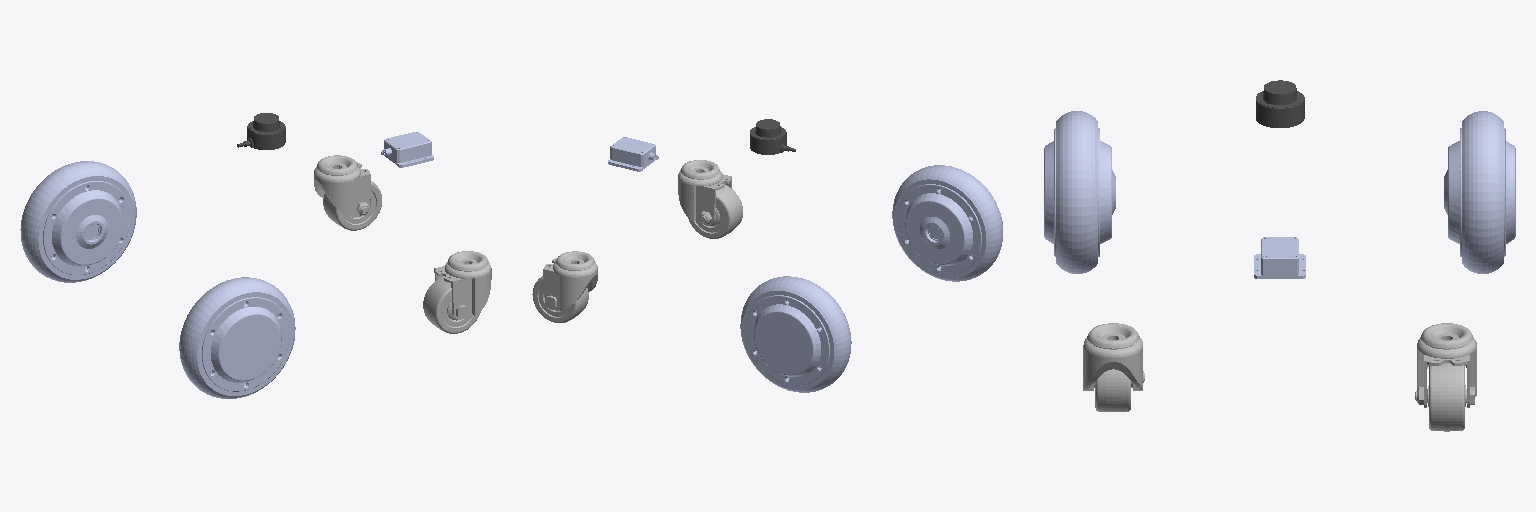
The robot description file, URDF, robot "buaahz_car_urdf_n10p":
<?xml version="1.0" encoding="utf-8"?>
<!-- This URDF was automatically created by SolidWorks to URDF Exporter! Originally created by Stephen Brawner (brawner@gmail.com) 
     Commit Version: 1.6.0-4-g7f85cfe  Build Version: 1.6.7995.38578
     For more information, please see http://wiki.ros.org/sw_urdf_exporter -->
<robot
  name="buaahz_car_urdf_n10p">
  <link
    name="base_link">
    <inertial>
      <origin
        xyz="0.171173844240303 -0.000490884329192642 0.0920658042519725"
        rpy="0 0 0" />
      <mass
        value="10.4189376177481" />
      <inertia
        ixx="0.0898317614916125"
        ixy="0.000125839593223842"
        ixz="-0.000445497013028808"
        iyy="0.0928240292624767"
        iyz="-1.91920534164565E-05"
        izz="0.171968936526809" />
    </inertial>
    <visual>
      <origin
        xyz="0 0 0"
        rpy="0 0 0" />
      <geometry>
        <mesh
          filename="package://buaahz_car_urdf_n10p/meshes/base_link.STL" />
      </geometry>
      <material
        name="">
        <color
          rgba="0.776470588235294 0.756862745098039 0.737254901960784 1" />
      </material>
    </visual>
    <collision>
      <origin
        xyz="0 0 0"
        rpy="0 0 0" />
      <geometry>
        <mesh
          filename="package://buaahz_car_urdf_n10p/meshes/base_link.STL" />
      </geometry>
    </collision>
  </link>
  <link
    name="left_wheel_Link">
    <inertial>
      <origin
        xyz="5.65098763338767E-08 -0.000107541598391658 3.10675519172611E-07"
        rpy="0 0 0" />
      <mass
        value="0.913957958882337" />
      <inertia
        ixx="0.00156554399137761"
        ixy="-7.84052736775856E-10"
        ixz="2.6839364578061E-09"
        iyy="0.00295301334108984"
        iyz="-2.21425364152471E-09"
        izz="0.00156556205111389" />
    </inertial>
    <visual>
      <origin
        xyz="0 0 0"
        rpy="0 0 0" />
      <geometry>
        <mesh
          filename="package://buaahz_car_urdf_n10p/meshes/left_wheel_Link.STL" />
      </geometry>
      <material
        name="">
        <color
          rgba="0.792156862745098 0.819607843137255 0.933333333333333 1" />
      </material>
    </visual>
    <collision>
      <origin
        xyz="0 0 0"
        rpy="0 0 0" />
      <geometry>
        <mesh
          filename="package://buaahz_car_urdf_n10p/meshes/left_wheel_Link.STL" />
      </geometry>
    </collision>
  </link>
  <joint
    name="left_wheel_joint"
    type="continuous">
    <origin
      xyz="5E-05 0.2146 -0.002"
      rpy="0 0 0" />
    <parent
      link="base_link" />
    <child
      link="left_wheel_Link" />
    <axis
      xyz="0.00023299 1 0" />
  </joint>
  <link
    name="right_wheel_Link">
    <inertial>
      <origin
        xyz="-5.65098763338767E-08 0.000107541598391658 3.10675519189091E-07"
        rpy="0 0 0" />
      <mass
        value="0.913957958882336" />
      <inertia
        ixx="0.00156554399137761"
        ixy="-7.84052736810507E-10"
        ixz="-2.68393645808829E-09"
        iyy="0.00295301334108984"
        iyz="2.21425364140424E-09"
        izz="0.00156556205111389" />
    </inertial>
    <visual>
      <origin
        xyz="0 0 0"
        rpy="0 0 0" />
      <geometry>
        <mesh
          filename="package://buaahz_car_urdf_n10p/meshes/right_wheel_Link.STL" />
      </geometry>
      <material
        name="">
        <color
          rgba="0.792156862745098 0.819607843137255 0.933333333333333 1" />
      </material>
    </visual>
    <collision>
      <origin
        xyz="0 0 0"
        rpy="0 0 0" />
      <geometry>
        <mesh
          filename="package://buaahz_car_urdf_n10p/meshes/right_wheel_Link.STL" />
      </geometry>
    </collision>
  </link>
  <joint
    name="right_wheel_joint"
    type="continuous">
    <origin
      xyz="-5E-05 -0.2146 -0.002"
      rpy="0 0 0" />
    <parent
      link="base_link" />
    <child
      link="right_wheel_Link" />
    <axis
      xyz="0.00023299 1 0" />
  </joint>
  <link
    name="lf_Link">
    <inertial>
      <origin
        xyz="0.00478439486534085 -0.000194940503855379 -0.0200897415759267"
        rpy="0 0 0" />
      <mass
        value="0.0764331852561443" />
      <inertia
        ixx="6.38707770236009E-05"
        ixy="2.87122519156644E-07"
        ixz="1.04097740579094E-05"
        iyy="5.80010180912249E-05"
        iyz="-5.27406370320013E-07"
        izz="5.40103969527263E-05" />
    </inertial>
    <visual>
      <origin
        xyz="0 0 0"
        rpy="0 0 0" />
      <geometry>
        <mesh
          filename="package://buaahz_car_urdf_n10p/meshes/lf_Link.STL" />
      </geometry>
      <material
        name="">
        <color
          rgba="0.756862745098039 0.768627450980392 0.752941176470588 1" />
      </material>
    </visual>
    <collision>
      <origin
        xyz="0 0 0"
        rpy="0 0 0" />
      <geometry>
        <mesh
          filename="package://buaahz_car_urdf_n10p/meshes/lf_Link.STL" />
      </geometry>
    </collision>
  </link>
  <joint
    name="lf_joint"
    type="continuous">
    <origin
      xyz="0.3818 0.17675 0.0052475"
      rpy="0 0 0" />
    <parent
      link="base_link" />
    <child
      link="lf_Link" />
    <axis
      xyz="0 0 -1" />
  </joint>
  <link
    name="lf_wheel_Link">
    <inertial>
      <origin
        xyz="-2.38627238802191E-07 -1.45803757956031E-10 -5.824273784788E-08"
        rpy="0 0 0" />
      <mass
        value="0.150467637750351" />
      <inertia
        ixx="7.04259874807444E-05"
        ixy="2.55314558592168E-13"
        ixz="-6.7518873005632E-12"
        iyy="0.000108333870406122"
        iyz="2.62322526670289E-10"
        izz="7.04301499801696E-05" />
    </inertial>
    <visual>
      <origin
        xyz="0 0 0"
        rpy="0 0 0" />
      <geometry>
        <mesh
          filename="package://buaahz_car_urdf_n10p/meshes/lf_wheel_Link.STL" />
      </geometry>
      <material
        name="">
        <color
          rgba="0.756862745098039 0.768627450980392 0.752941176470588 1" />
      </material>
    </visual>
    <collision>
      <origin
        xyz="0 0 0"
        rpy="0 0 0" />
      <geometry>
        <mesh
          filename="package://buaahz_car_urdf_n10p/meshes/lf_wheel_Link.STL" />
      </geometry>
    </collision>
  </link>
  <joint
    name="lf_wheel_joint"
    type="continuous">
    <origin
      xyz="0.024001 0 -0.055747"
      rpy="0 0 0" />
    <parent
      link="lf_Link" />
    <child
      link="lf_wheel_Link" />
    <axis
      xyz="0 1 0" />
  </joint>
  <link
    name="rf_Link">
    <inertial>
      <origin
        xyz="-0.00478439486534091 0.000194940503855441 -0.0200897415759267"
        rpy="0 0 0" />
      <mass
        value="0.0764331852561442" />
      <inertia
        ixx="6.38707770236007E-05"
        ixy="2.87122519156616E-07"
        ixz="-1.04097740579094E-05"
        iyy="5.80010180912247E-05"
        iyz="5.27406370320082E-07"
        izz="5.40103969527261E-05" />
    </inertial>
    <visual>
      <origin
        xyz="0 0 0"
        rpy="0 0 0" />
      <geometry>
        <mesh
          filename="package://buaahz_car_urdf_n10p/meshes/rf_Link.STL" />
      </geometry>
      <material
        name="">
        <color
          rgba="0.756862745098039 0.768627450980392 0.752941176470588 1" />
      </material>
    </visual>
    <collision>
      <origin
        xyz="0 0 0"
        rpy="0 0 0" />
      <geometry>
        <mesh
          filename="package://buaahz_car_urdf_n10p/meshes/rf_Link.STL" />
      </geometry>
    </collision>
  </link>
  <joint
    name="rf_joint"
    type="continuous">
    <origin
      xyz="0.3818 -0.17625 0.0052475"
      rpy="0 0 0" />
    <parent
      link="base_link" />
    <child
      link="rf_Link" />
    <axis
      xyz="0 0 -1" />
  </joint>
  <link
    name="rf_wheel_Link">
    <inertial>
      <origin
        xyz="2.38627238857703E-07 1.45803898468633E-10 -5.82427378409411E-08"
        rpy="0 0 0" />
      <mass
        value="0.150467637750353" />
      <inertia
        ixx="7.04259874807456E-05"
        ixy="2.55314513091424E-13"
        ixz="6.751887380218E-12"
        iyy="0.000108333870406124"
        iyz="-2.62322526655303E-10"
        izz="7.0430149980171E-05" />
    </inertial>
    <visual>
      <origin
        xyz="0 0 0"
        rpy="0 0 0" />
      <geometry>
        <mesh
          filename="package://buaahz_car_urdf_n10p/meshes/rf_wheel_Link.STL" />
      </geometry>
      <material
        name="">
        <color
          rgba="0.756862745098039 0.768627450980392 0.752941176470588 1" />
      </material>
    </visual>
    <collision>
      <origin
        xyz="0 0 0"
        rpy="0 0 0" />
      <geometry>
        <mesh
          filename="package://buaahz_car_urdf_n10p/meshes/rf_wheel_Link.STL" />
      </geometry>
    </collision>
  </link>
  <joint
    name="rf_wheel_joint"
    type="continuous">
    <origin
      xyz="-0.024001 0 -0.055747"
      rpy="0 0 0" />
    <parent
      link="rf_Link" />
    <child
      link="rf_wheel_Link" />
    <axis
      xyz="0 -1 0" />
  </joint>
  <link
    name="laser_link">
    <inertial>
      <origin
        xyz="-0.00073546599062646 -2.7928729351423E-07 -0.00549379656777746"
        rpy="0 0 0" />
      <mass
        value="0.000111381912632092" />
      <inertia
        ixx="8.09810255937569E-10"
        ixy="2.48436925672806E-14"
        ixz="2.38955091357794E-14"
        iyy="8.09668177063889E-10"
        iyz="2.28917457077452E-15"
        izz="1.17057115150874E-10" />
    </inertial>
    <visual>
      <origin
        xyz="0 0 0"
        rpy="0 0 0" />
      <geometry>
        <mesh
          filename="package://buaahz_car_urdf_n10p/meshes/laser_link.STL" />
      </geometry>
      <material
        name="">
        <color
          rgba="0.376470588235294 0.376470588235294 0.376470588235294 1" />
      </material>
    </visual>
    <collision>
      <origin
        xyz="0 0 0"
        rpy="0 0 0" />
      <geometry>
        <mesh
          filename="package://buaahz_car_urdf_n10p/meshes/laser_link.STL" />
      </geometry>
    </collision>
  </link>
  <joint
    name="laser_joint"
    type="fixed">
    <origin
      xyz="0.17001 0.00011528 0.18755"
      rpy="0 0 0" />
    <parent
      link="base_link" />
    <child
      link="laser_link" />
    <axis
      xyz="0 0 0" />
  </joint>
  <link
    name="gyro_link">
    <inertial>
      <origin
        xyz="-0.000461131492249578 1.49767171164772E-08 0.000357931402369102"
        rpy="0 0 0" />
      <mass
        value="0.0548244190262661" />
      <inertia
        ixx="1.0090549858139E-05"
        ixy="7.81875144514637E-12"
        ixz="8.08032197163173E-09"
        iyy="1.47422266994547E-05"
        iyz="1.26941468202763E-12"
        izz="2.14471397750013E-05" />
    </inertial>
    <visual>
      <origin
        xyz="0 0 0"
        rpy="0 0 0" />
      <geometry>
        <mesh
          filename="package://buaahz_car_urdf_n10p/meshes/gyro_link.STL" />
      </geometry>
      <material
        name="">
        <color
          rgba="0.792156862745098 0.819607843137255 0.933333333333333 1" />
      </material>
    </visual>
    <collision>
      <origin
        xyz="0 0 0"
        rpy="0 0 0" />
      <geometry>
        <mesh
          filename="package://buaahz_car_urdf_n10p/meshes/gyro_link.STL" />
      </geometry>
    </collision>
  </link>
  <joint
    name="gyro_joint"
    type="fixed">
    <origin
      xyz="0.3895 0 0.1035"
      rpy="-3.1416 0 0" />
    <parent
      link="base_link" />
    <child
      link="gyro_link" />
    <axis
      xyz="0 0 0" />
  </joint>
</robot>

--- What the picture shows (computed from the rendered views, not written in the file) ---
Views: 3 orthographic renders of the robot side by side, from view 1: azimuth 30°, elevation 25°; view 2: azimuth 150°, elevation 25°; view 3: azimuth 270°, elevation 25°.
Model buaahz_car_urdf_n10p with 9 links and 8 joints (6 continuous, 2 fixed), rooted at base_link, posed all joints at 0.
Links seen in each view (by area): view 1: right_wheel_Link, left_wheel_Link, lf_Link, rf_Link, rf_wheel_Link, gyro_link, laser_link, lf_wheel_Link; view 2: left_wheel_Link, right_wheel_Link, lf_Link, rf_Link, rf_wheel_Link, gyro_link, laser_link, lf_wheel_Link; view 3: right_wheel_Link, left_wheel_Link, rf_Link, lf_Link, lf_wheel_Link, laser_link, gyro_link, rf_wheel_Link.
Link boxes in pixels (x1,y1,x2,y2): right_wheel_Link: (179,277,295,398); left_wheel_Link: (20,161,136,282); lf_Link: (314,155,370,217); rf_Link: (434,251,491,319); rf_wheel_Link: (423,276,480,333); gyro_link: (381,132,433,167); laser_link: (237,113,285,149); lf_wheel_Link: (323,181,381,230); left_wheel_Link: (740,276,851,392); right_wheel_Link: (892,165,1002,281); lf_Link: (543,251,597,310); rf_Link: (678,160,731,225); rf_wheel_Link: (688,184,742,238); gyro_link: (608,137,658,171); laser_link: (750,119,795,154); lf_wheel_Link: (532,276,588,322); right_wheel_Link: (1044,111,1115,273); left_wheel_Link: (1444,111,1515,273); rf_Link: (1083,323,1144,390); lf_Link: (1415,323,1476,407); lf_wheel_Link: (1427,363,1466,431); laser_link: (1256,80,1304,127); gyro_link: (1254,237,1305,278); rf_wheel_Link: (1094,369,1132,411).
Size in the robot's own frame: 0.5298 by 0.4984 by 0.2884 metres.
Meshes: 9 distinct files referenced, 8 mesh visuals loaded (8 binary STL); not drawn: 1 (reference not matched to a file when rendering).
